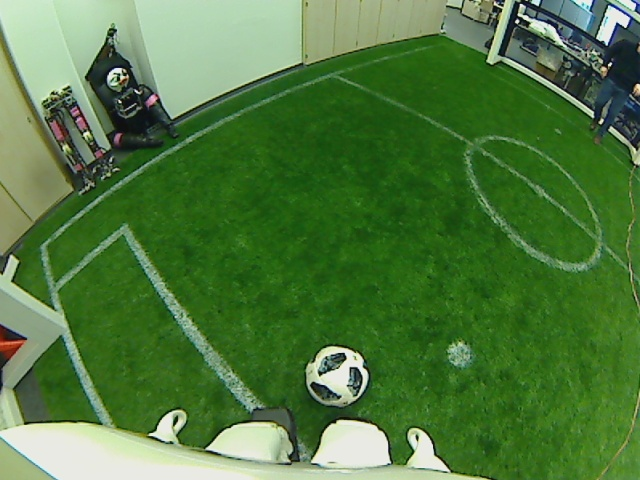ball: (306, 341, 369, 410)
